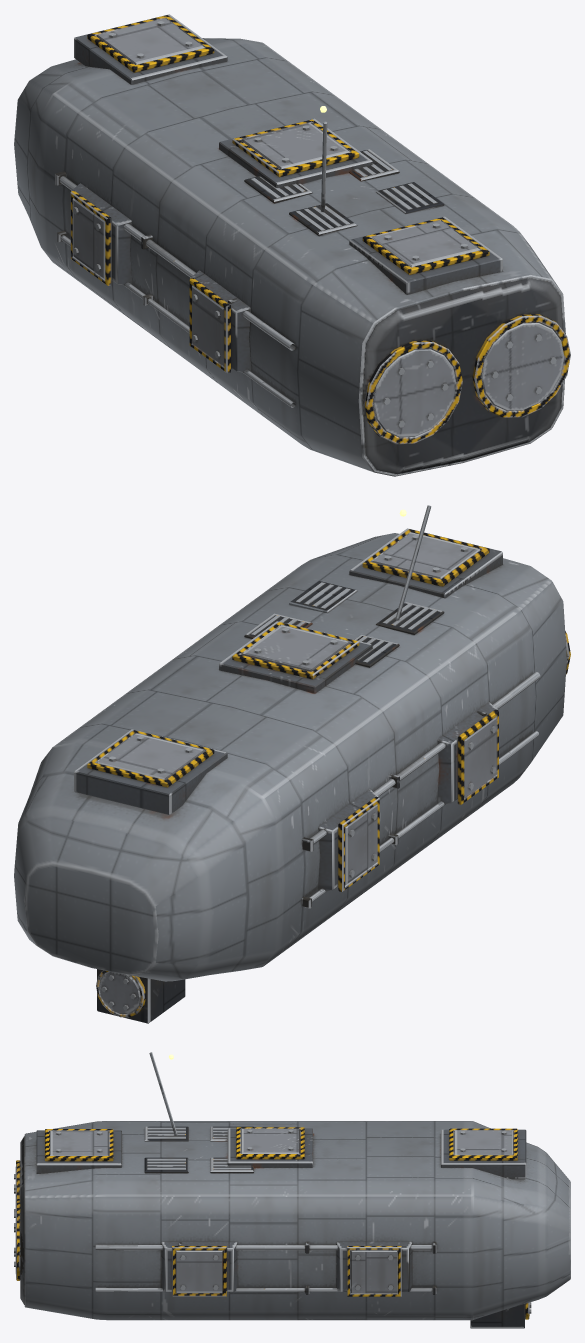
The model's file is casco_transporte_t1.fbx.
3 renders of one model, top to bottom at view 1: azimuth 30°, elevation 25°; view 2: azimuth 150°, elevation 25°; view 3: azimuth 270°, elevation 25°, orthographic. The views are drawn at different scales.
Parts seen in each view (by area): view 1: casco_transporte_t1; view 2: casco_transporte_t1; view 3: casco_transporte_t1.
Boxes of the visible parts, box(x1,y1,x2,y2) form: casco_transporte_t1: box(14, 14, 570, 476); casco_transporte_t1: box(14, 505, 570, 1023); casco_transporte_t1: box(14, 1052, 570, 1328).
Size of the model in its own units: 6.9 by 8.11 by 16.31.
